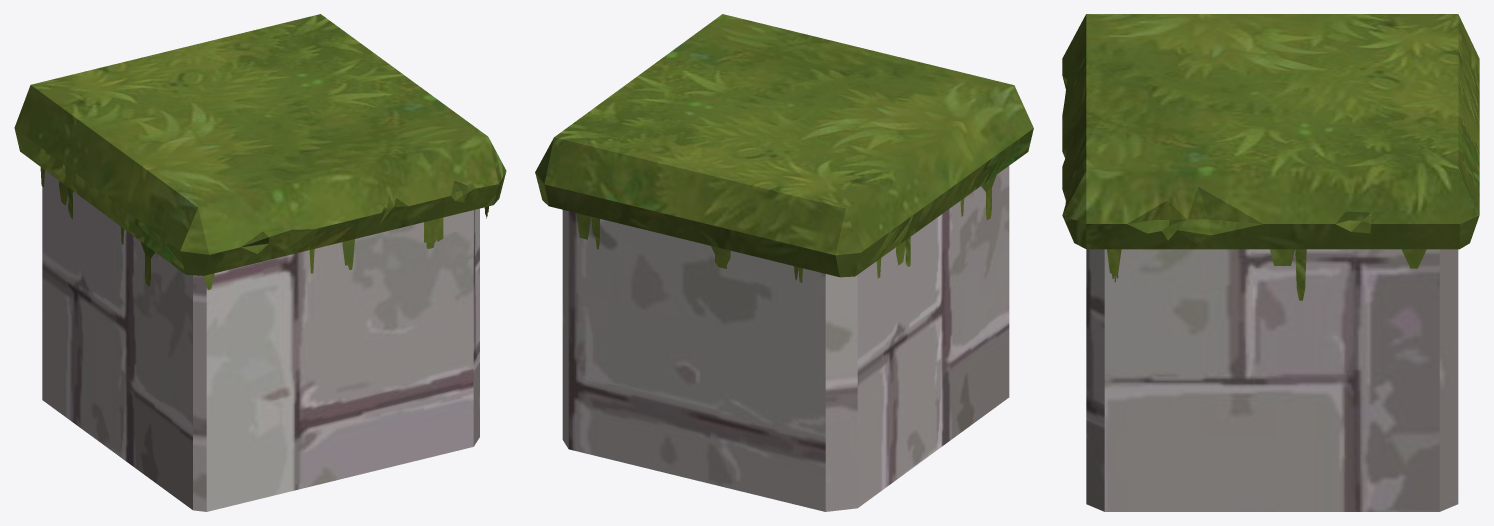
File: GroundBlock_2.0.glb
The picture shows the model from 3 angles, left to right: view 1: azimuth 30°, elevation 25°; view 2: azimuth 150°, elevation 25°; view 3: azimuth 270°, elevation 25°; orthographic projection. The views are drawn at different scales.
Parts seen in each view (by area): view 1: Groundblock; view 2: Groundblock; view 3: Groundblock.
Part boxes in pixels (<box>): Groundblock: <box>14,14,506,511</box>; Groundblock: <box>535,14,1033,511</box>; Groundblock: <box>1062,14,1479,511</box>.
Bounding box in the file's own units: 2.25 × 2.02 × 2.24.
2 materials, 2 textured.
